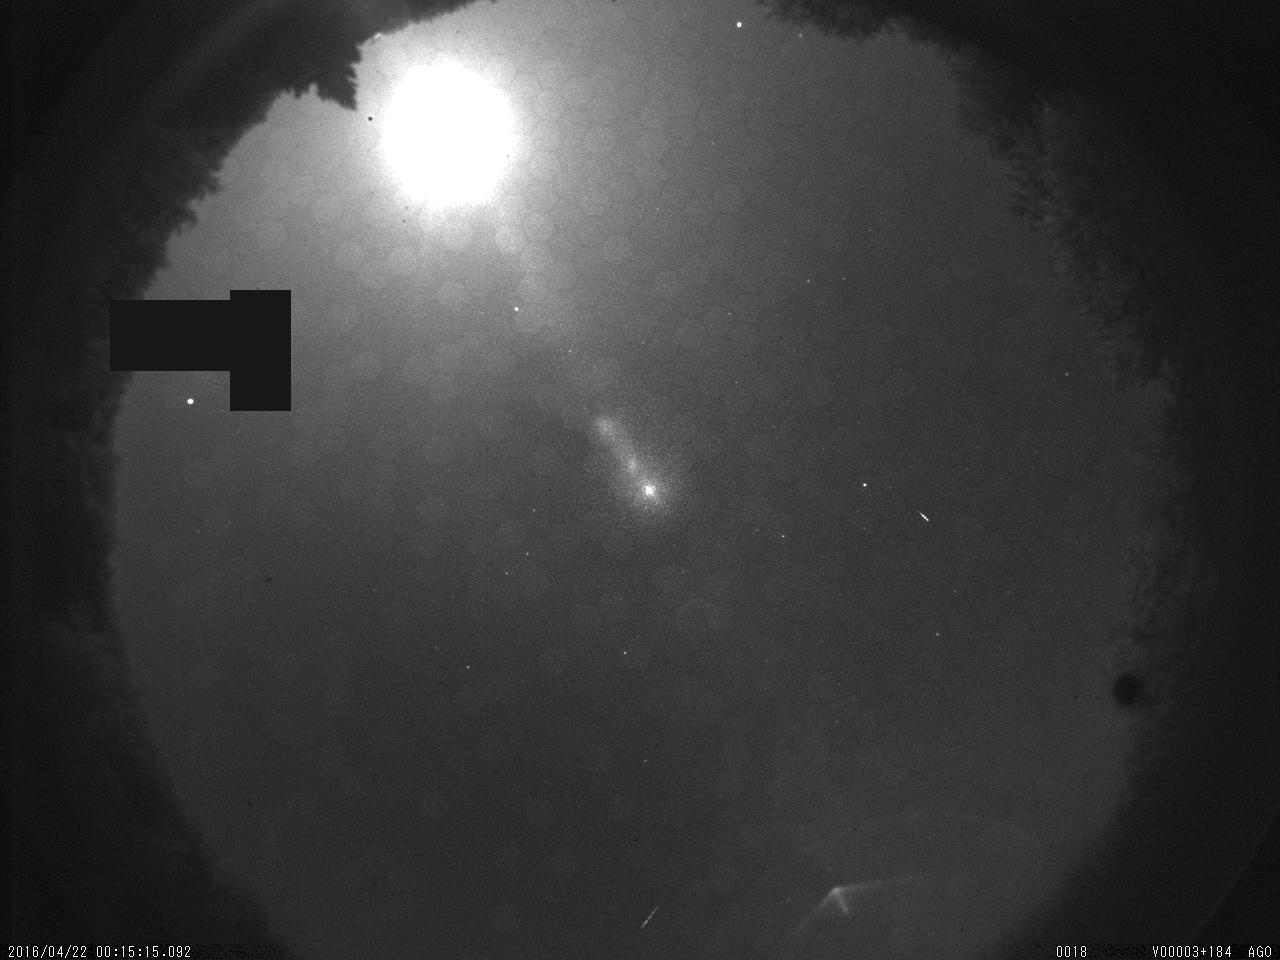meteor: (627, 894, 675, 949), (911, 497, 944, 542)
